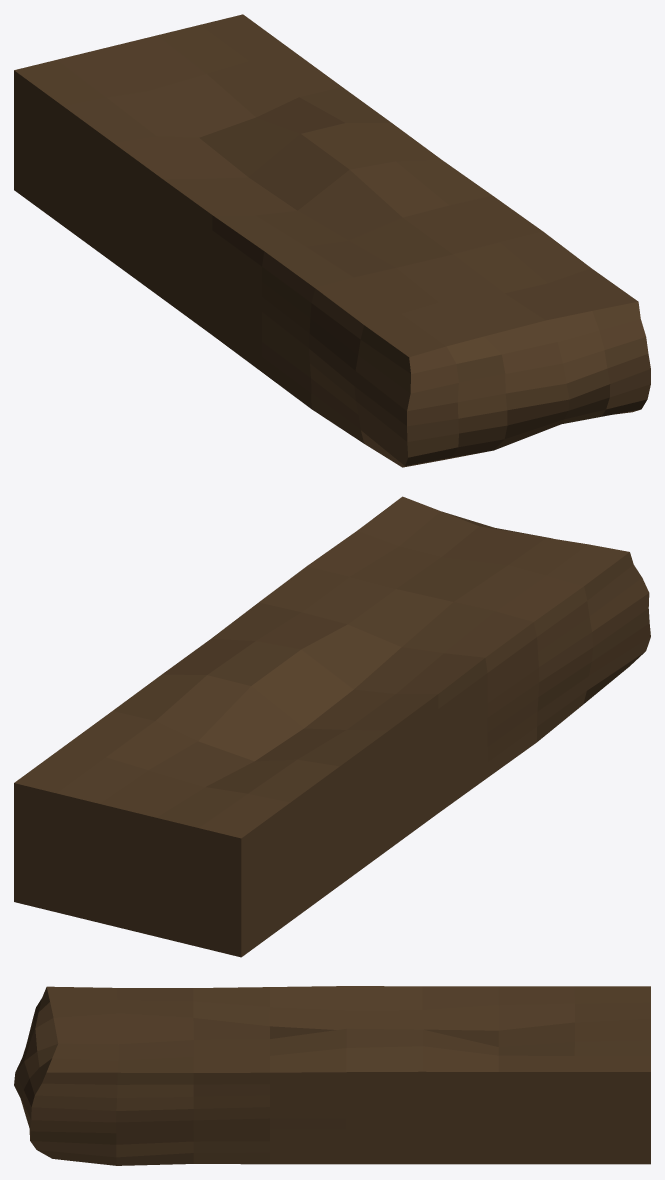
File: platformSmallPlain.fbx
3 views of the same model, one above another, from view 1: azimuth 30°, elevation 25°; view 2: azimuth 150°, elevation 25°; view 3: azimuth 270°, elevation 25° (orthographic). The views are drawn at different scales.
Parts seen in each view (by area): view 1: smallPlatformPlain; view 2: smallPlatformPlain; view 3: smallPlatformPlain.
Part boxes in pixels (<box>): smallPlatformPlain: <box>14,14,650,467</box>; smallPlatformPlain: <box>14,496,650,957</box>; smallPlatformPlain: <box>14,986,650,1165</box>.
Size of the model in its own units: 109 by 56.56 by 313.
